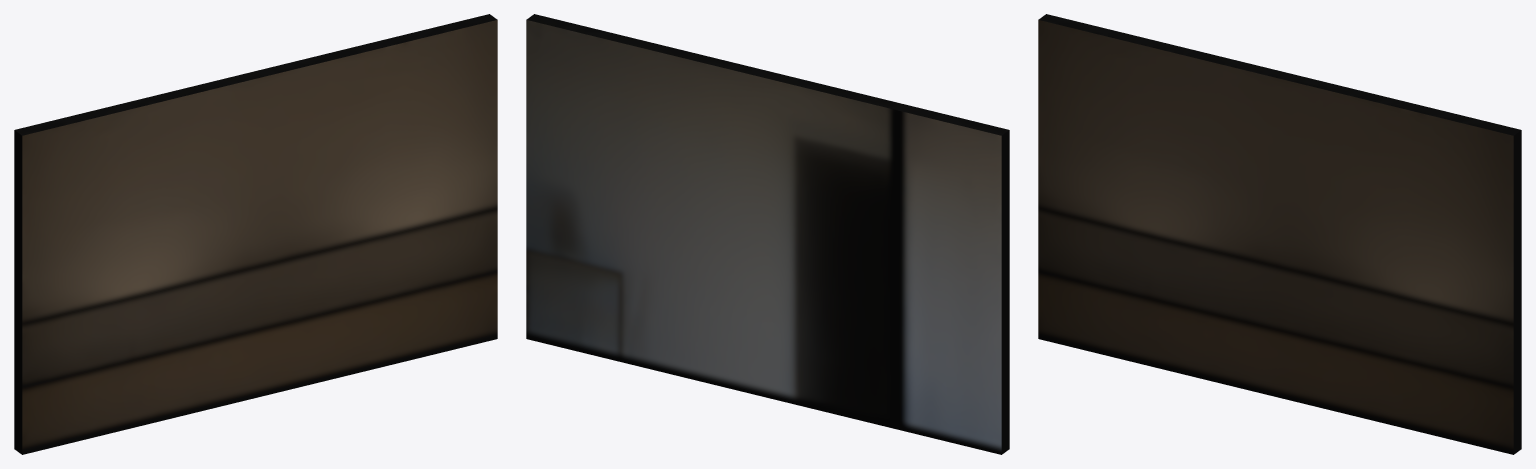
3 views of the same model, side by side, from view 1: azimuth 30°, elevation 25°; view 2: azimuth 150°, elevation 25°; view 3: azimuth 330°, elevation 25° (orthographic).
Visible parts, largest first — view 1: Cube.007; view 2: Cube.007; view 3: Cube.007.
Boxes of the visible parts, bbox=[...] form: Cube.007: bbox=[14, 14, 497, 454]; Cube.007: bbox=[526, 14, 1009, 454]; Cube.007: bbox=[1038, 14, 1521, 454].
Size of the model in its own units: 3.9 by 2.5 by 0.113.
Materials: 2 (2 with a texture image).
